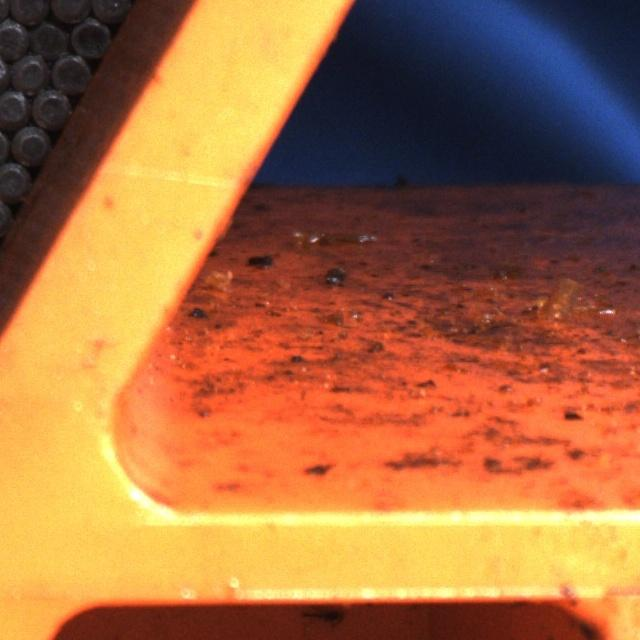tool: (9, 122, 50, 163), (70, 15, 111, 56), (31, 86, 71, 127), (48, 48, 88, 88), (9, 50, 48, 90), (30, 16, 69, 56), (0, 159, 32, 198), (0, 86, 29, 126), (0, 15, 28, 56), (9, 0, 49, 24), (50, 0, 90, 23), (89, 0, 129, 20)
